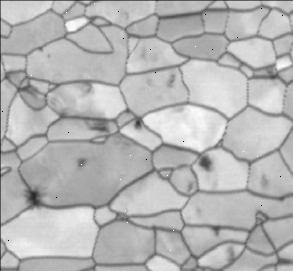good_void: (24, 187, 48, 211), (193, 154, 217, 174), (82, 120, 110, 136), (162, 72, 178, 94), (223, 245, 239, 264), (256, 170, 271, 190), (77, 83, 97, 98), (264, 66, 278, 80), (129, 118, 143, 130), (34, 42, 46, 55), (183, 179, 194, 192), (77, 157, 88, 170), (44, 53, 53, 62), (212, 225, 221, 234)
